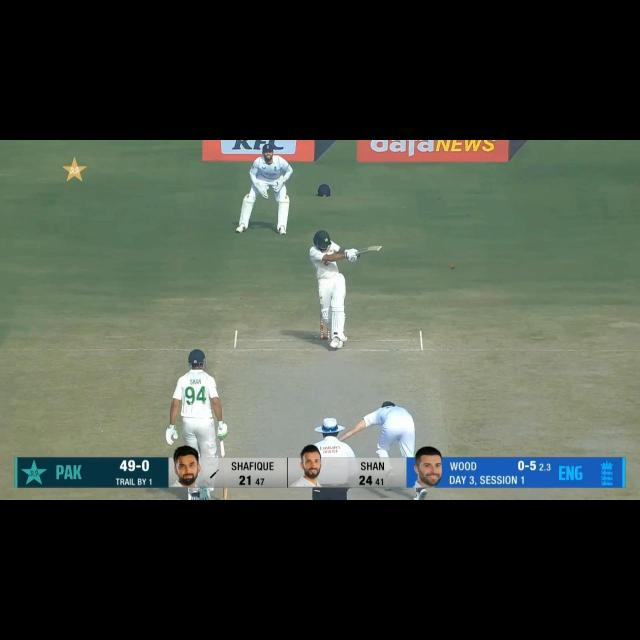bat: (350, 244, 386, 258), (222, 482, 233, 501), (220, 452, 228, 458)
toe: (369, 246, 384, 253), (223, 490, 229, 500)
